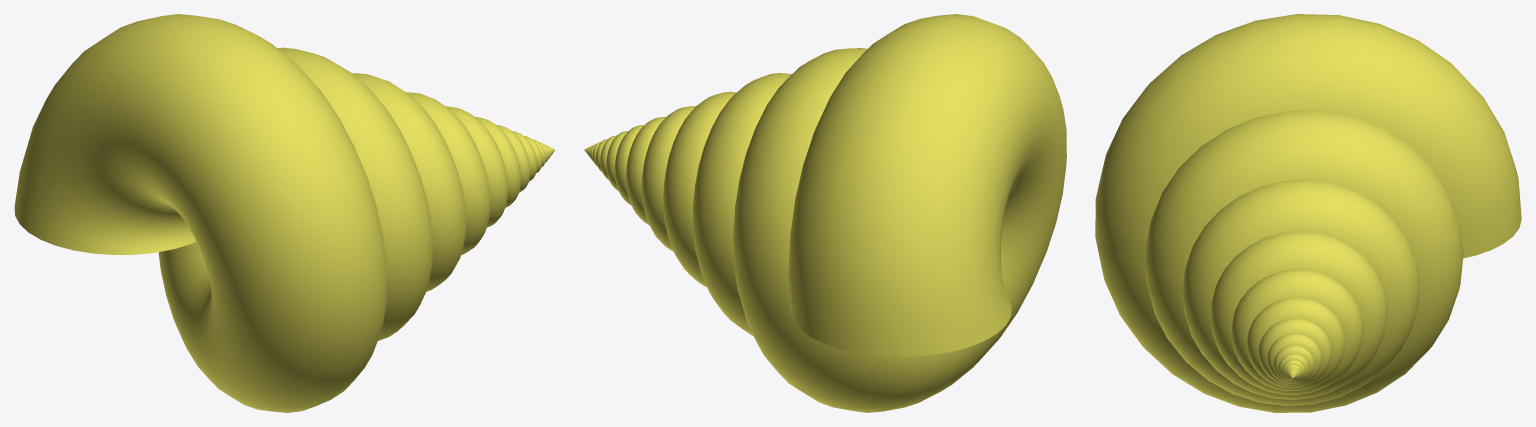
3 views of the same model, side by side, from view 1: azimuth 30°, elevation 25°; view 2: azimuth 150°, elevation 25°; view 3: azimuth 270°, elevation 25° (orthographic). The views are drawn at different scales.
Visible parts, largest first — view 1: t7; view 2: t7; view 3: t7.
Part boxes in pixels (bbox=[...]): t7: bbox=[14, 14, 554, 412]; t7: bbox=[584, 14, 1066, 412]; t7: bbox=[1095, 14, 1521, 412].
Size of the model in its own units: 500 by 383 by 411.
